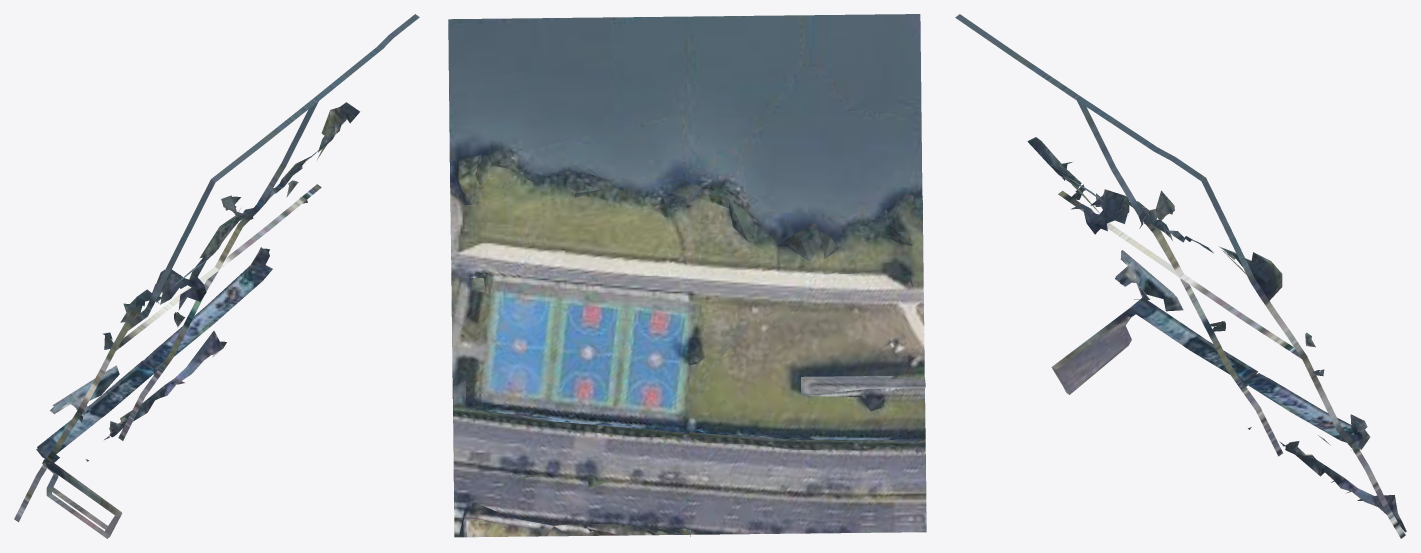
3 renders of one model, left to right at view 1: azimuth 30°, elevation 25°; view 2: azimuth 150°, elevation 25°; view 3: azimuth 270°, elevation 25°, orthographic. The views are drawn at different scales.
Bounding box in the file's own units: 155 × 136 × 135.
1 material, 1 textured.
